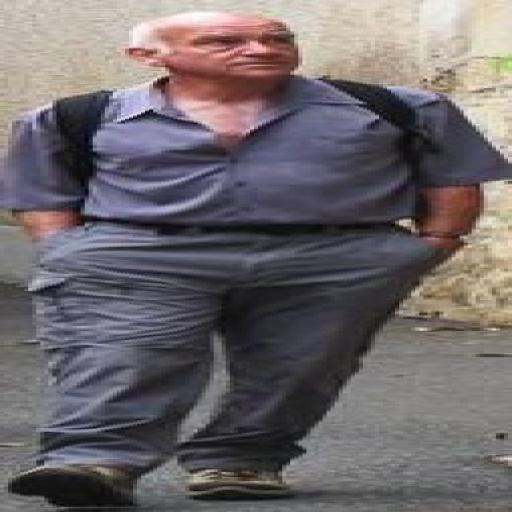person: (0, 12, 511, 506)
